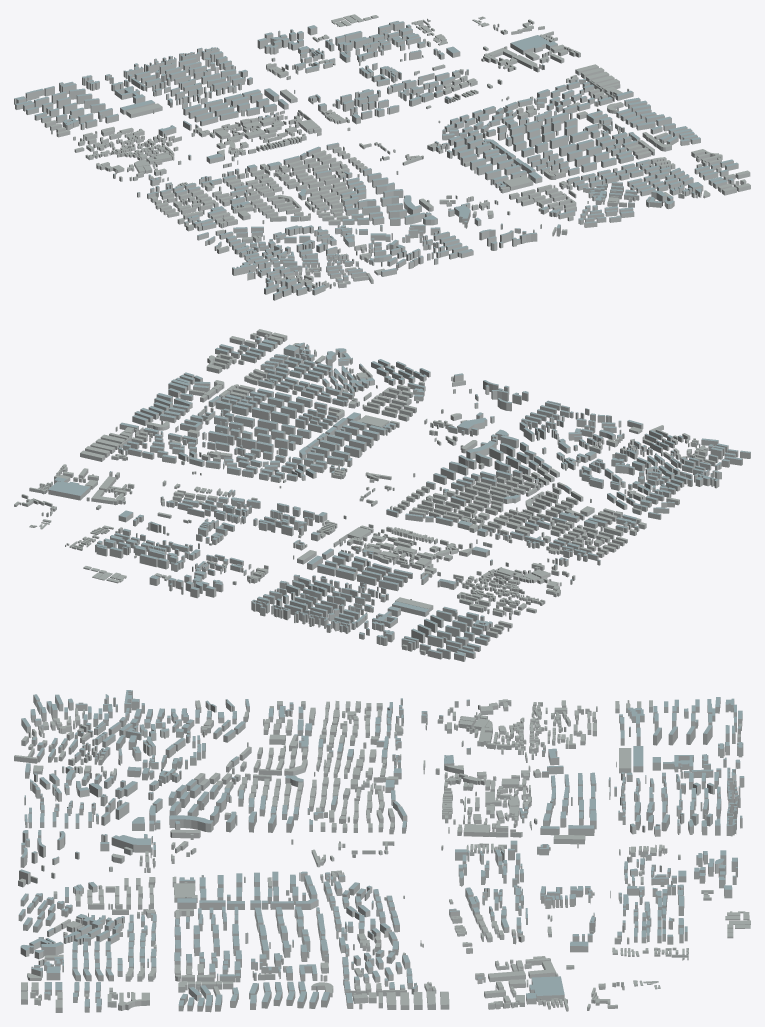
File: far.glb
3 renders of one model, top to bottom at view 1: azimuth 30°, elevation 25°; view 2: azimuth 150°, elevation 25°; view 3: azimuth 270°, elevation 25°, orthographic. The views are drawn at different scales.
Size of the model in its own units: 2154 by 36.79 by 2137.
